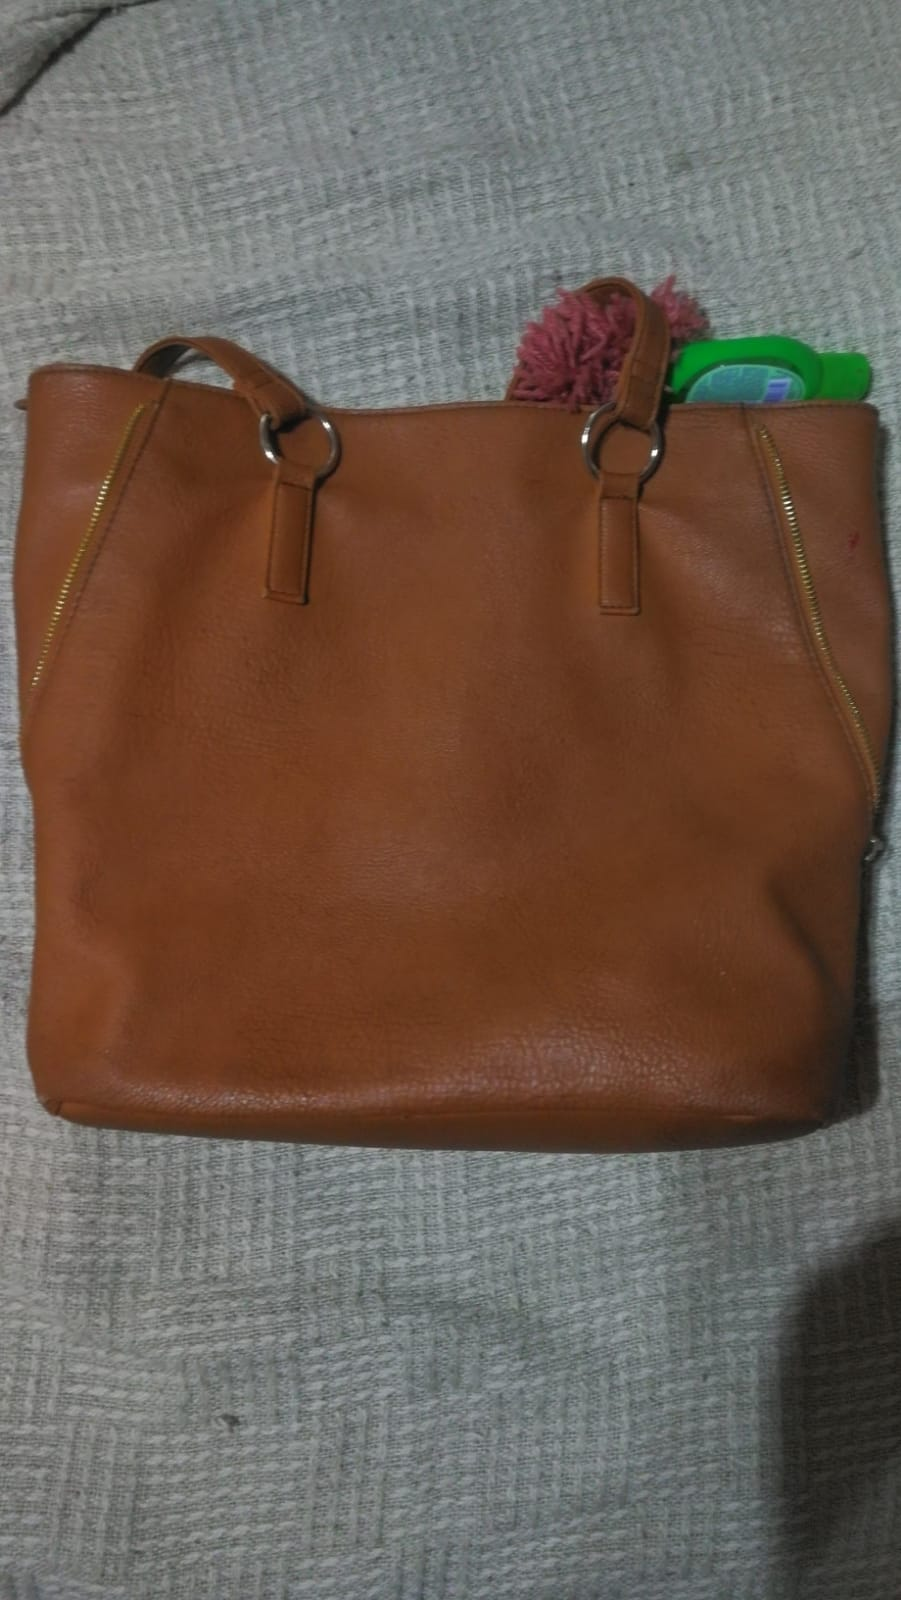cartera: (14, 330, 888, 1153)
cuero: (311, 705, 589, 910)
